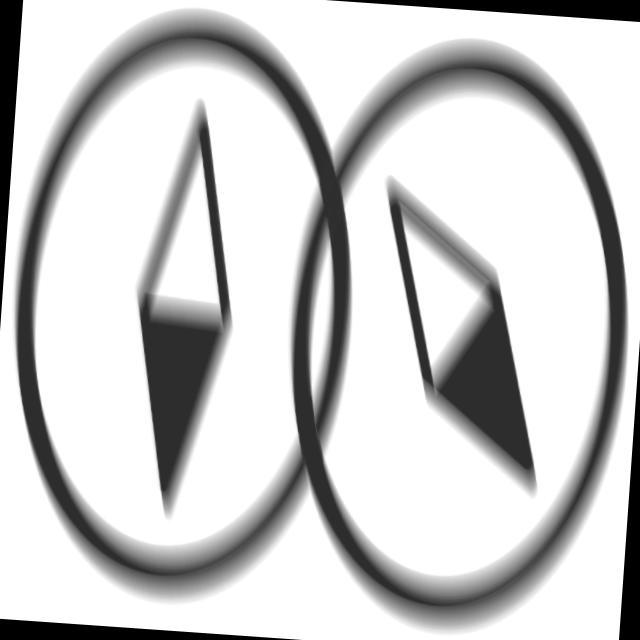compass: (260, 11, 640, 640), (1, 1, 375, 628)
